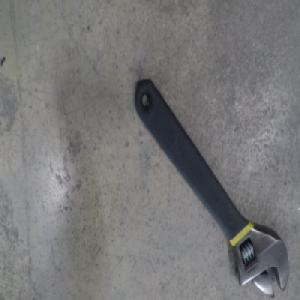AdjustableWrench: (132, 76, 288, 291)
